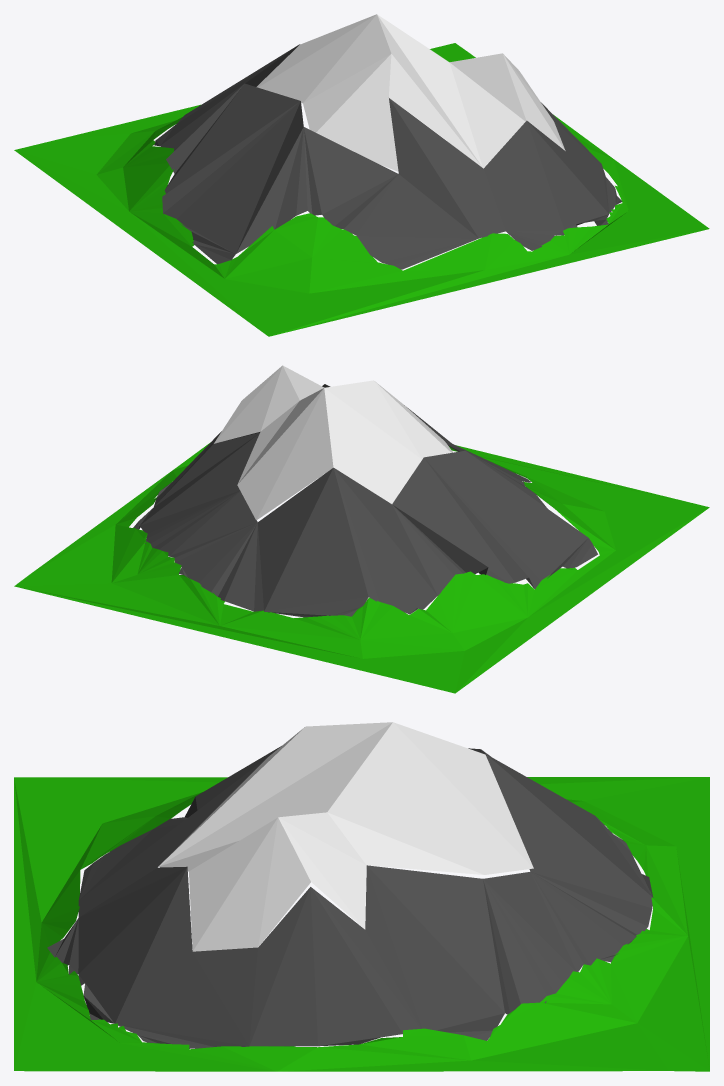
The model's file is Mountain.fbx.
The picture shows the model from 3 angles, top to bottom: view 1: azimuth 30°, elevation 25°; view 2: azimuth 150°, elevation 25°; view 3: azimuth 270°, elevation 25°; orthographic projection. The views are drawn at different scales.
Parts seen in each view (by area): view 1: Landscape.001; view 2: Landscape.001; view 3: Landscape.001.
Part boxes in pixels (x1=…): Landscape.001: x1=14, y1=14, x2=709, y2=336; Landscape.001: x1=14, y1=365, x2=709, y2=693; Landscape.001: x1=14, y1=722, x2=709, y2=1071.
Bounding box in the file's own units: 509 × 179 × 509.
